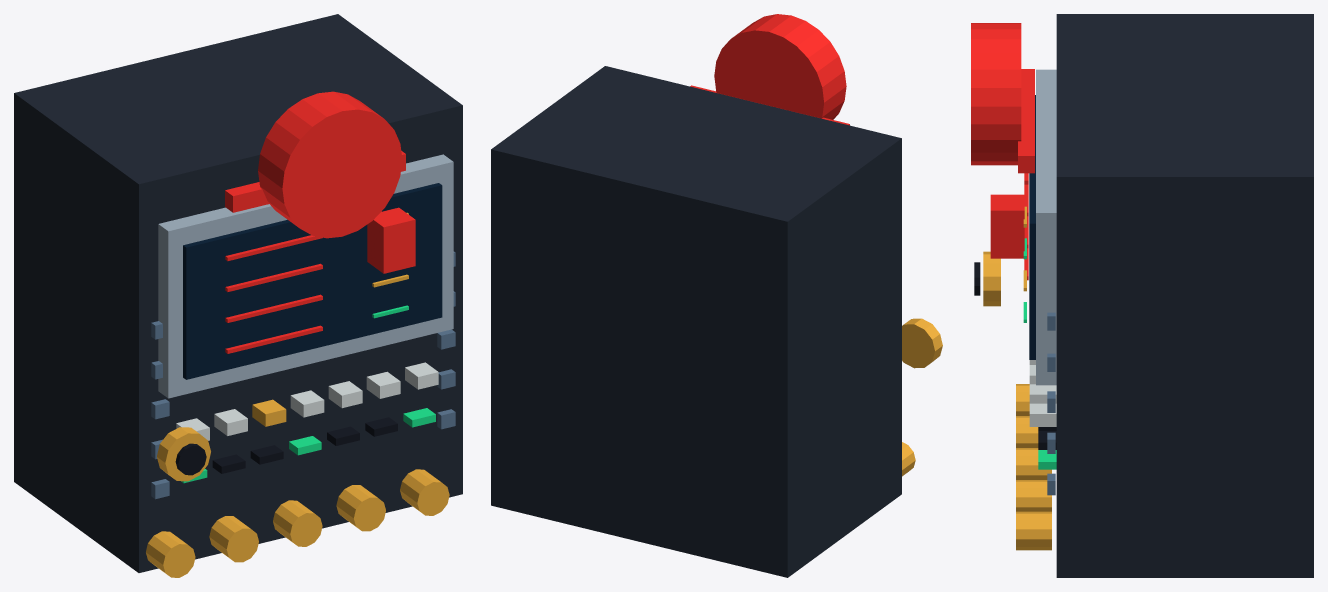
The model's file is 68_L86_ManipulatorEmergencyStopStation.fbx.
3 renders of one model, left to right at view 1: azimuth 30°, elevation 25°; view 2: azimuth 150°, elevation 25°; view 3: azimuth 270°, elevation 25°, orthographic. The views are drawn at different scales.
Parts seen in each view (by area): view 1: L86_ManipulatorEmergencyStopStation, L86_ManipulatorEmergencyStopStation_Part_0009, L86_ManipulatorEmergencyStopStation_Part_0010, L86_ManipulatorEmergencyStopStation_Part_0011; view 2: L86_ManipulatorEmergencyStopStation, L86_ManipulatorEmergencyStopStation_Part_0009, L86_ManipulatorEmergencyStopStation_Part_0010; view 3: L86_ManipulatorEmergencyStopStation, L86_ManipulatorEmergencyStopStation_Part_0009, L86_ManipulatorEmergencyStopStation_Part_0010.
Boxes of the visible parts, x1=… form: L86_ManipulatorEmergencyStopStation: x1=14, y1=14, x2=462, y2=577; L86_ManipulatorEmergencyStopStation_Part_0009: x1=258, y1=91, x2=402, y2=238; L86_ManipulatorEmergencyStopStation_Part_0010: x1=157, y1=427, x2=210, y2=481; L86_ManipulatorEmergencyStopStation_Part_0011: x1=175, y1=443, x2=206, y2=475; L86_ManipulatorEmergencyStopStation: x1=491, y1=66, x2=915, y2=577; L86_ManipulatorEmergencyStopStation_Part_0009: x1=714, y1=14, x2=846, y2=119; L86_ManipulatorEmergencyStopStation_Part_0010: x1=902, y1=318, x2=942, y2=368; L86_ManipulatorEmergencyStopStation: x1=990, y1=14, x2=1313, y2=577; L86_ManipulatorEmergencyStopStation_Part_0009: x1=971, y1=23, x2=1021, y2=165; L86_ManipulatorEmergencyStopStation_Part_0010: x1=983, y1=251, x2=1000, y2=306.
Bounding box in the file's own units: 94.4 × 123 × 81.6.
